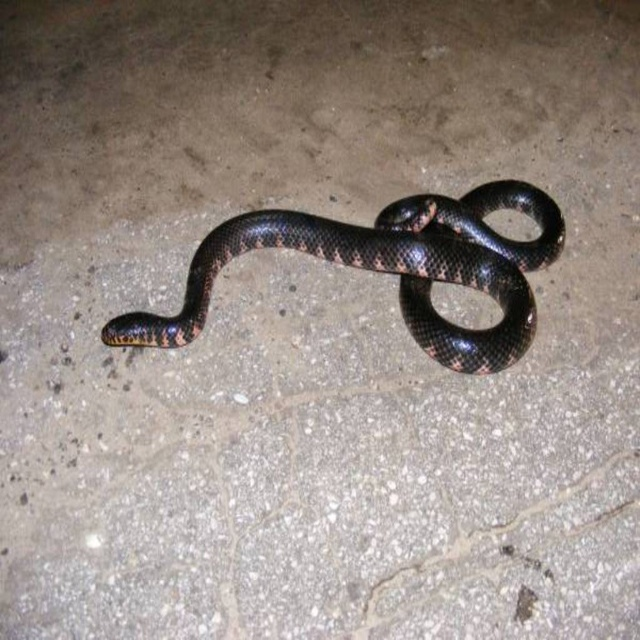Snake: (98, 171, 565, 373)
